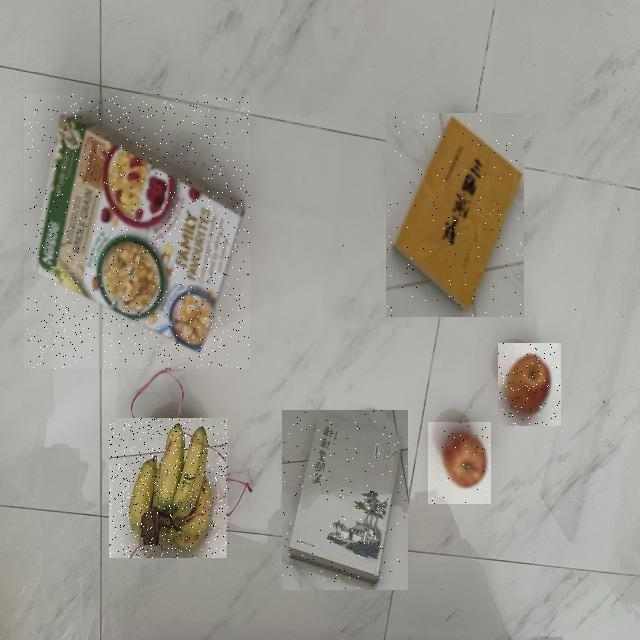Apple: (498, 343, 561, 426), (428, 423, 491, 505)
Banana: (110, 419, 230, 559)
Book: (386, 113, 524, 317), (282, 410, 408, 590)
Cereal: (24, 94, 250, 369)
